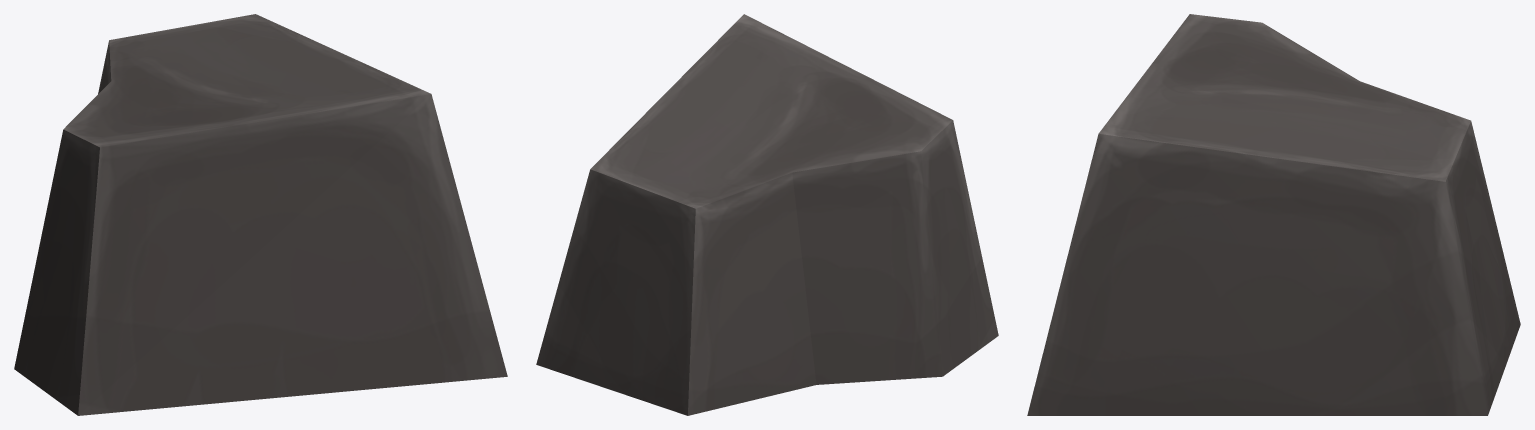
File: Rock_4.FBX
The picture shows the model from 3 angles, left to right: view 1: azimuth 30°, elevation 25°; view 2: azimuth 150°, elevation 25°; view 3: azimuth 270°, elevation 25°; orthographic projection. The views are drawn at different scales.
Visible parts, largest first — view 1: Rock_4; view 2: Rock_4; view 3: Rock_4.
Part boxes in pixels (box(x1,y1,x2,y2)): Rock_4: box(14, 14, 507, 415); Rock_4: box(536, 14, 998, 415); Rock_4: box(1027, 14, 1520, 415).
Bounding box in the file's own units: 0.7386 × 0.5184 × 0.8824.
